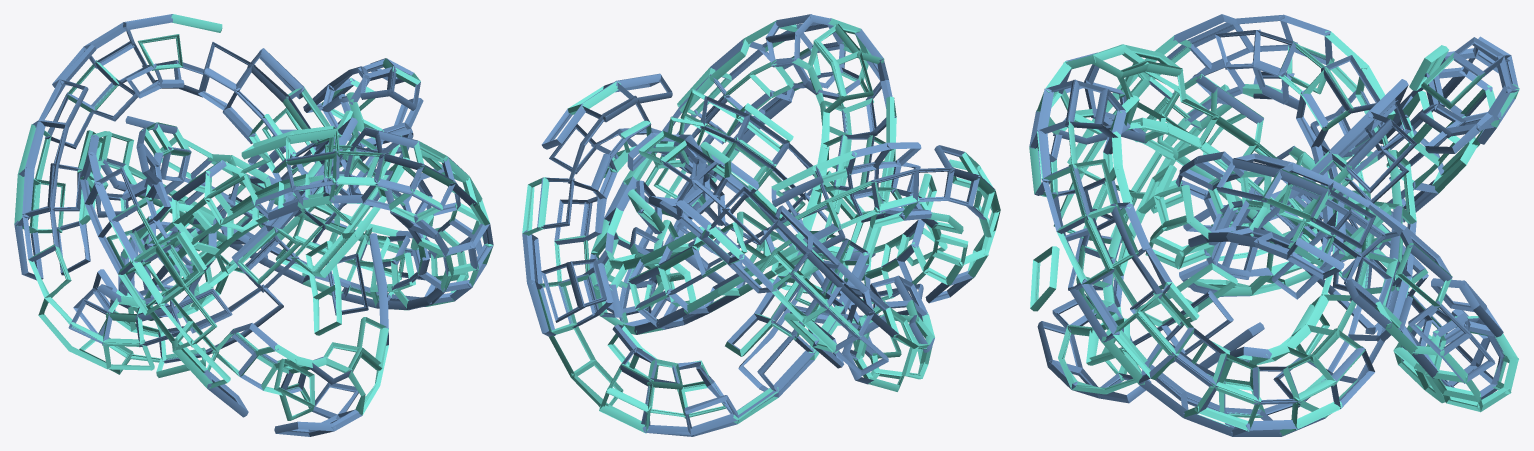
3 renders of one model, left to right at view 1: azimuth 30°, elevation 25°; view 2: azimuth 150°, elevation 25°; view 3: azimuth 270°, elevation 25°, orthographic. The views are drawn at different scales.
Visible parts, largest first — view 1: TorusKnot; view 2: TorusKnot; view 3: TorusKnot.
Boxes of the visible parts, bbox=[...] form: TorusKnot: bbox=[14, 14, 493, 436]; TorusKnot: bbox=[522, 14, 1000, 436]; TorusKnot: bbox=[1029, 14, 1519, 436].
Bounding box in the file's own units: 5.93 × 4.59 × 5.98.
